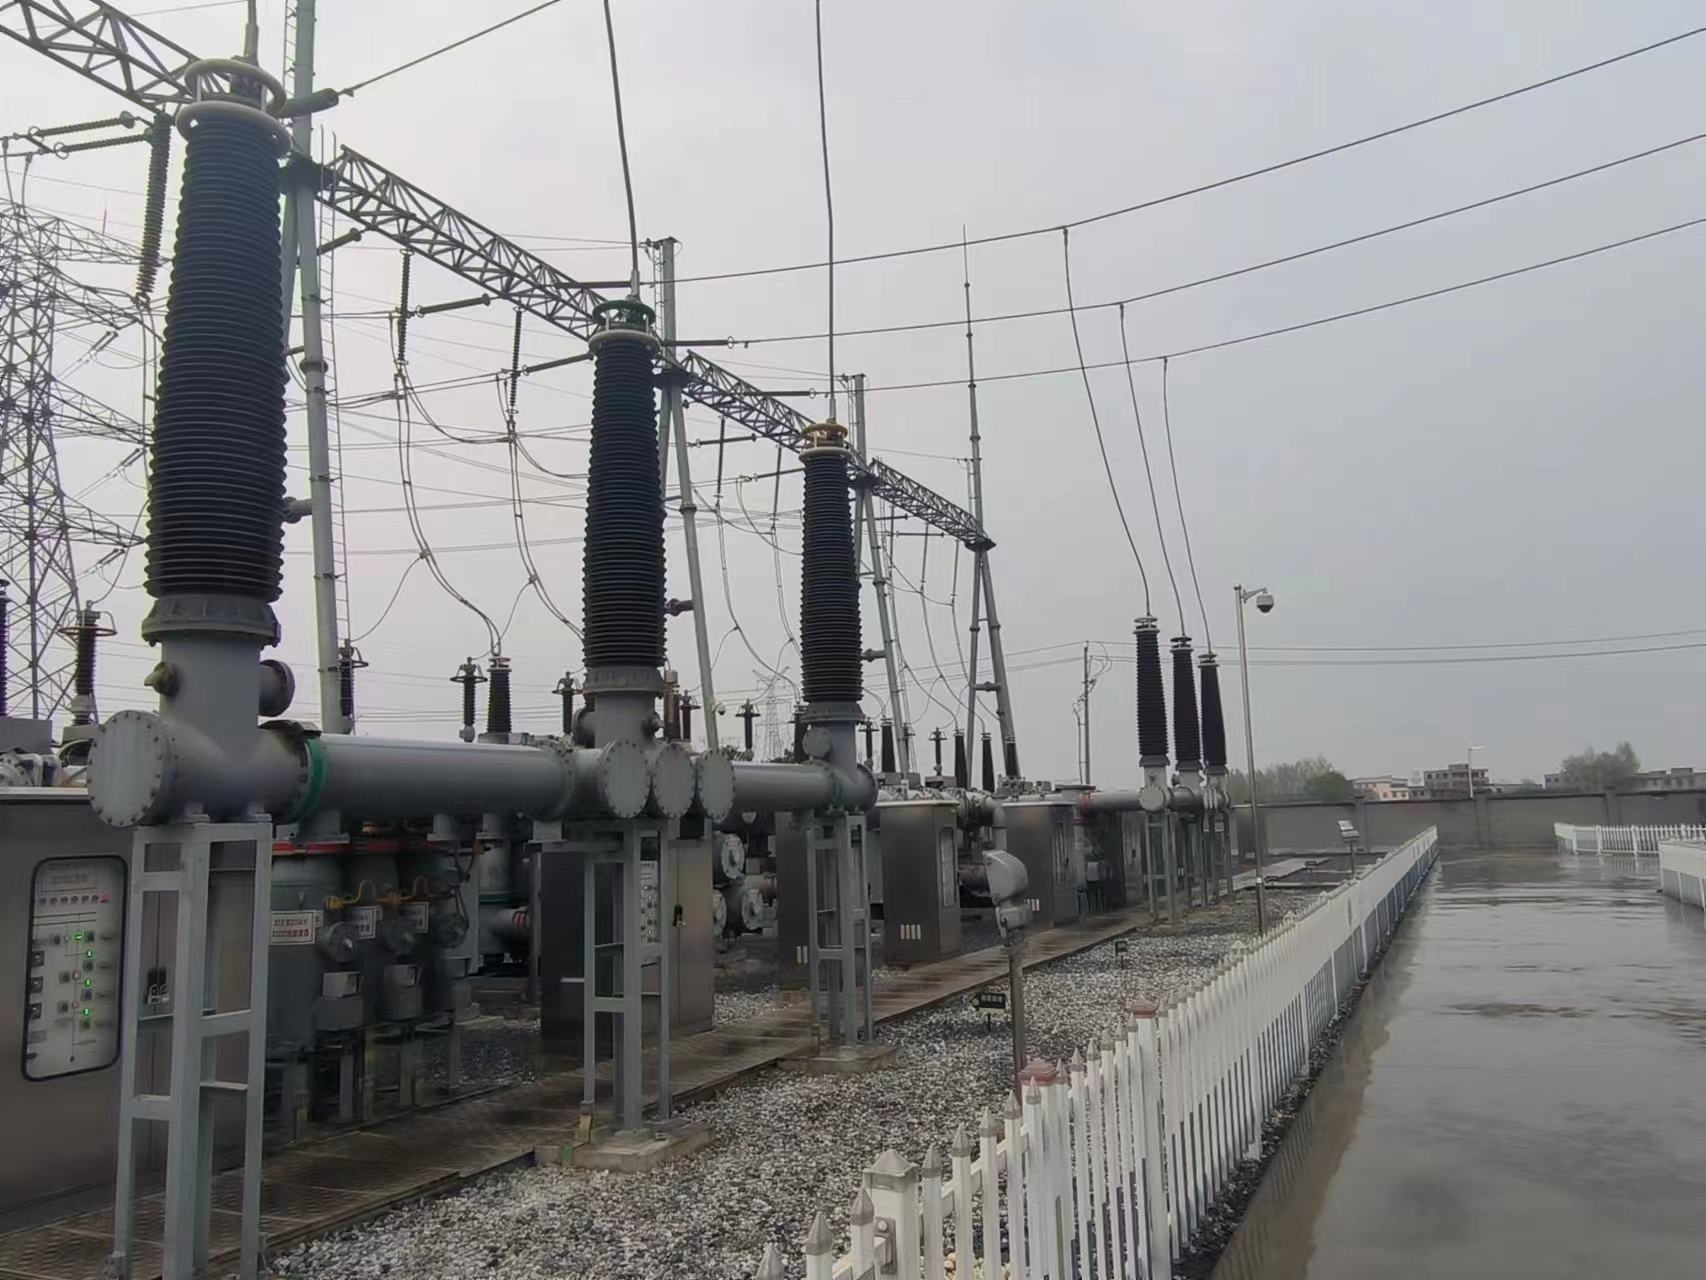Voltage transformer: (134, 59, 293, 643), (575, 298, 669, 691), (795, 430, 864, 719)
